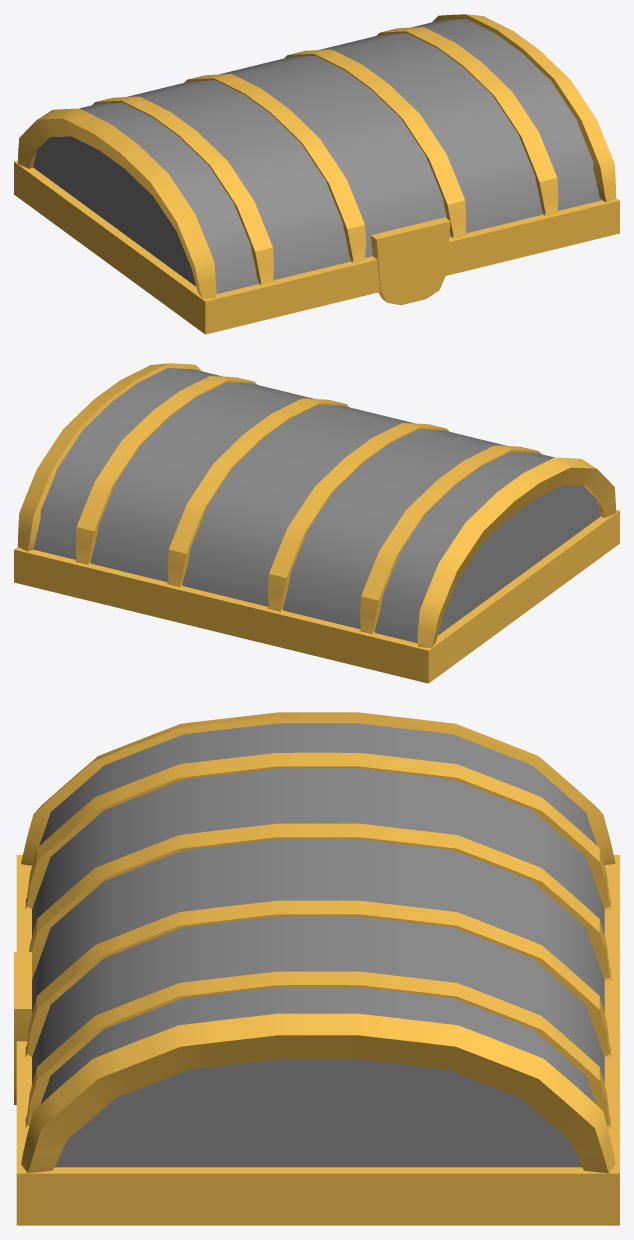
Rendered from chest_top_001.glb.
The picture shows the model from 3 angles, top to bottom: view 1: azimuth 30°, elevation 25°; view 2: azimuth 150°, elevation 25°; view 3: azimuth 270°, elevation 25°; orthographic projection. The views are drawn at different scales.
Visible parts, largest first — view 1: chest_top.001; view 2: chest_top.001; view 3: chest_top.001.
Boxes of the visible parts, bbox=[...] form: chest_top.001: bbox=[14, 14, 619, 334]; chest_top.001: bbox=[14, 363, 619, 683]; chest_top.001: bbox=[14, 712, 619, 1225].
Size of the model in its own units: 1.55 by 0.5097 by 1.23.
1 material, 1 textured.
